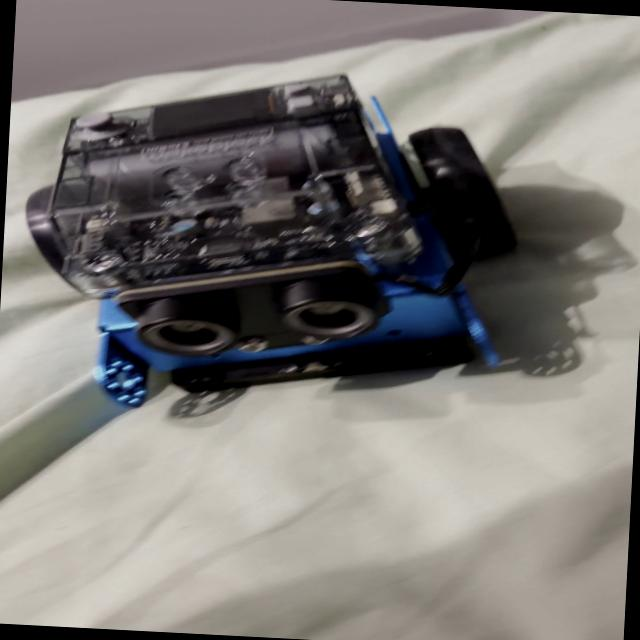mbot-detection: (2, 53, 552, 436)
